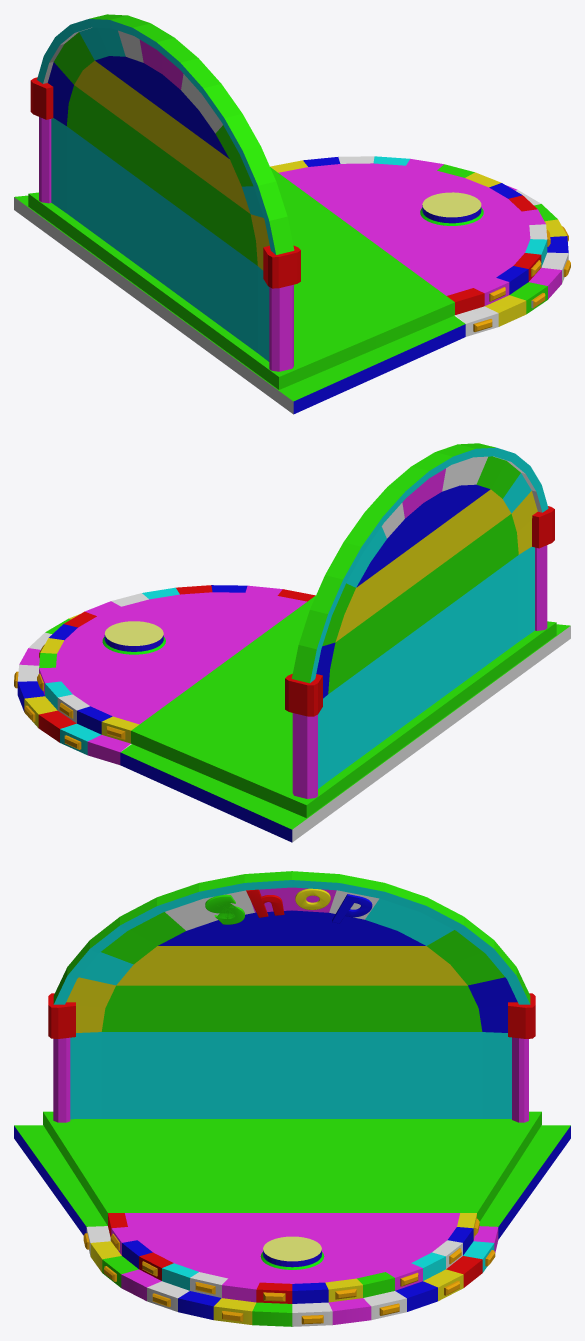
File: shop.fbx
3 views of the same model, one above another, from view 1: azimuth 30°, elevation 25°; view 2: azimuth 150°, elevation 25°; view 3: azimuth 270°, elevation 25° (orthographic).
Parts seen in each view (by area): view 1: Окружность, Окружность.001; view 2: Окружность, Окружность.001; view 3: Окружность, Окружность.001.
Part boxes in pixels (x1=…): Окружность: x1=14, y1=14, x2=570, y2=414; Окружность.001: x1=420, y1=192, x2=483, y2=225; Окружность: x1=14, y1=443, x2=570, y2=842; Окружность.001: x1=102, y1=621, x2=165, y2=654; Окружность: x1=14, y1=871, x2=570, y2=1326; Окружность.001: x1=260, y1=1236, x2=324, y2=1269.
Bounding box in the file's own units: 683 × 447 × 840.
